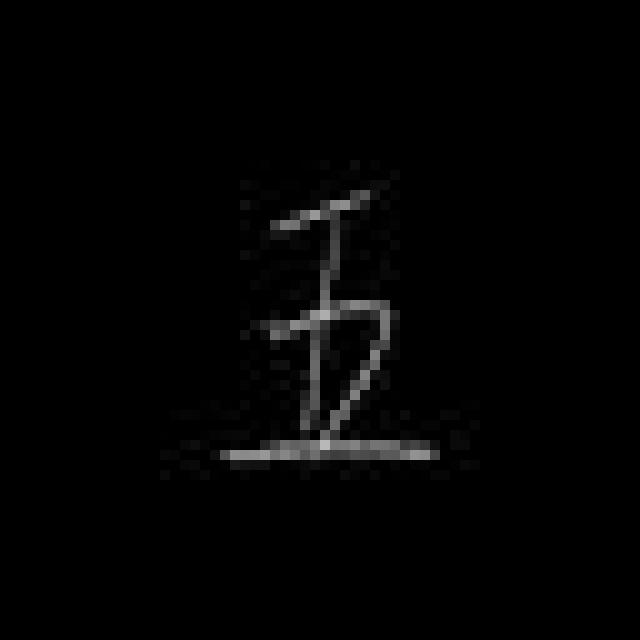5 -five-: (217, 178, 448, 482)
